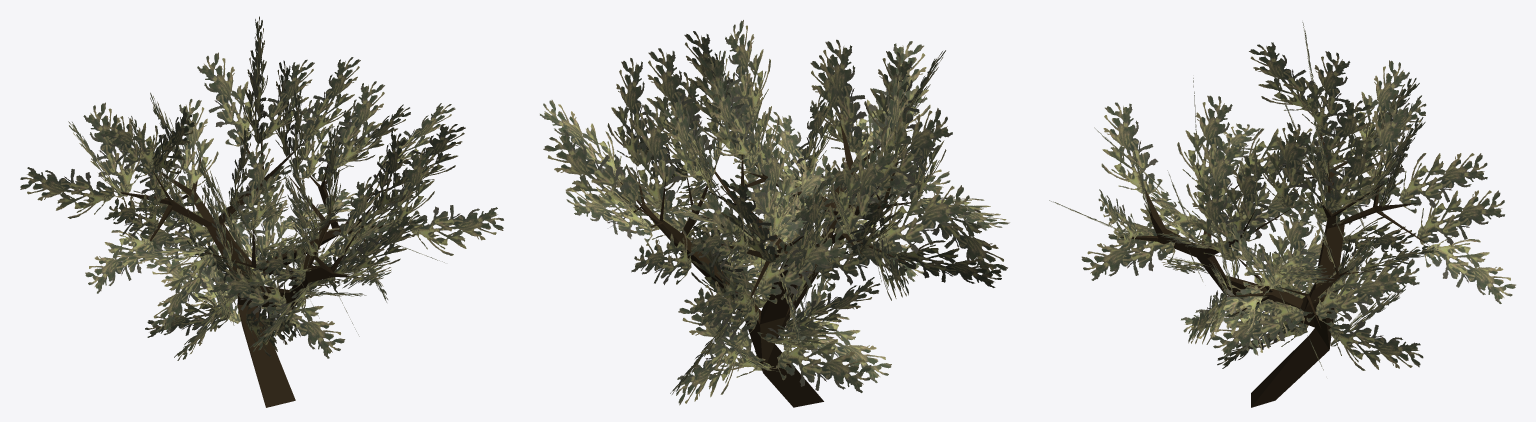
File: sage.glb
The picture shows the model from 3 angles, left to right: view 1: azimuth 30°, elevation 25°; view 2: azimuth 150°, elevation 25°; view 3: azimuth 270°, elevation 25°; orthographic projection. The views are drawn at different scales.
Visible parts, largest first — view 1: Sage; view 2: Sage; view 3: Sage.
Boxes of the visible parts, <box> form: Sage: <box>20,16,503,407</box>; Sage: <box>540,20,1009,407</box>; Sage: <box>1049,22,1515,407</box>.
Size of the model in its own units: 2.9 by 2.53 by 3.01.
1 material, 1 textured.
